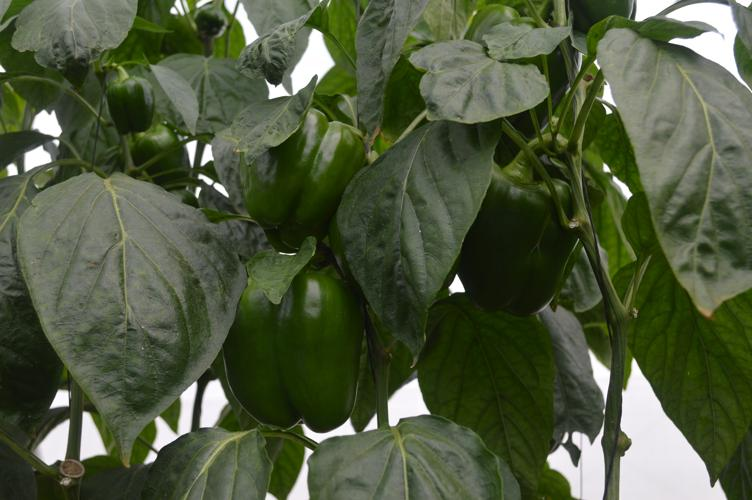BellPepper: (216, 261, 363, 433), (451, 151, 580, 314), (226, 107, 366, 244), (134, 128, 189, 189), (109, 77, 157, 130)
